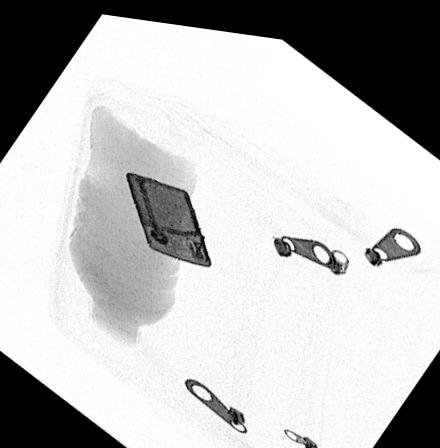Lighter: (123, 165, 211, 260)
